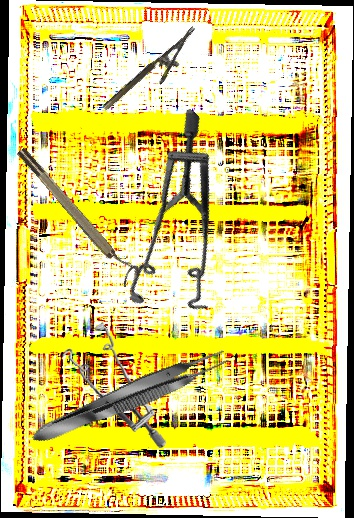Fixation Ring: (14, 140, 143, 288)
Needle Holder: (101, 26, 208, 123)
Speculum: (68, 107, 299, 341), (59, 317, 167, 455)
Tissue Forceps: (25, 341, 234, 452)
